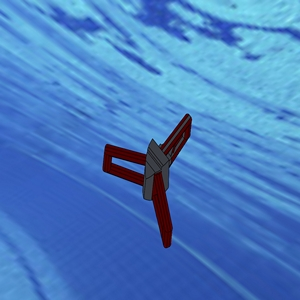submarine: (74, 71, 222, 258)
